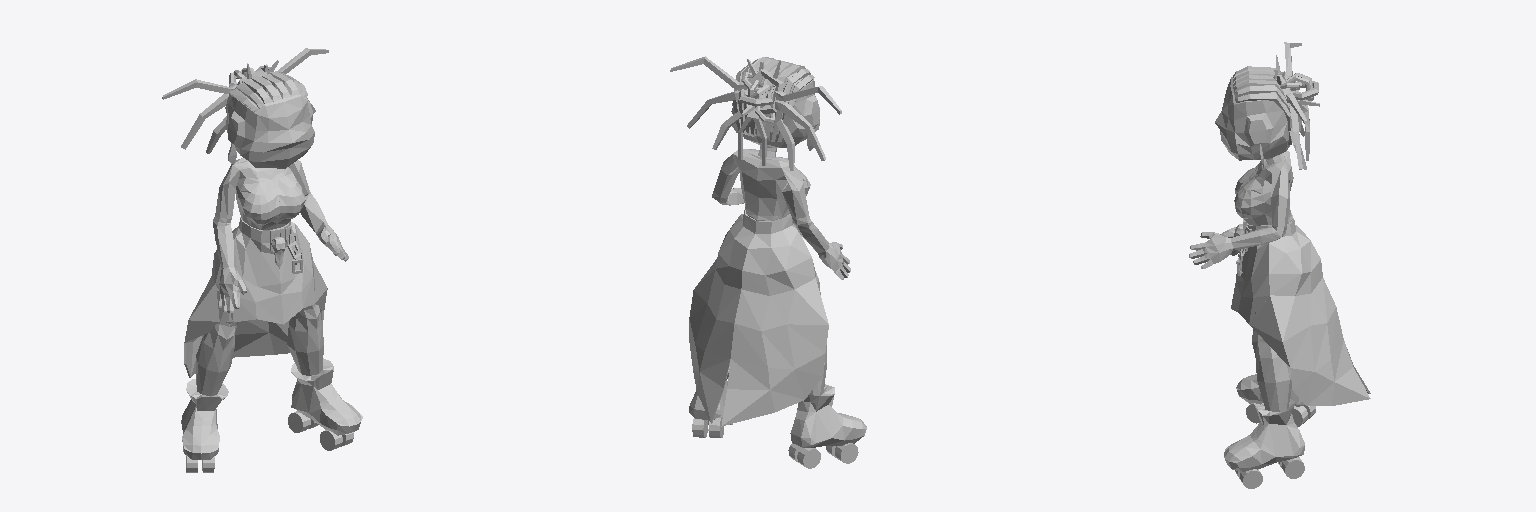
Rendered from bruja_000008.obj.
3 views of the same model, side by side, from view 1: azimuth 30°, elevation 25°; view 2: azimuth 150°, elevation 25°; view 3: azimuth 270°, elevation 25° (orthographic).
Parts seen in each view (by area): view 1: Bruja_Plane.001; view 2: Bruja_Plane.001; view 3: Bruja_Plane.001.
Boxes of the visible parts, x1=… form: Bruja_Plane.001: x1=162, y1=48, x2=362, y2=472; Bruja_Plane.001: x1=670, y1=56, x2=866, y2=468; Bruja_Plane.001: x1=1189, y1=42, x2=1370, y2=488.
Size of the model in its own units: 7.54 by 16.59 by 6.99.